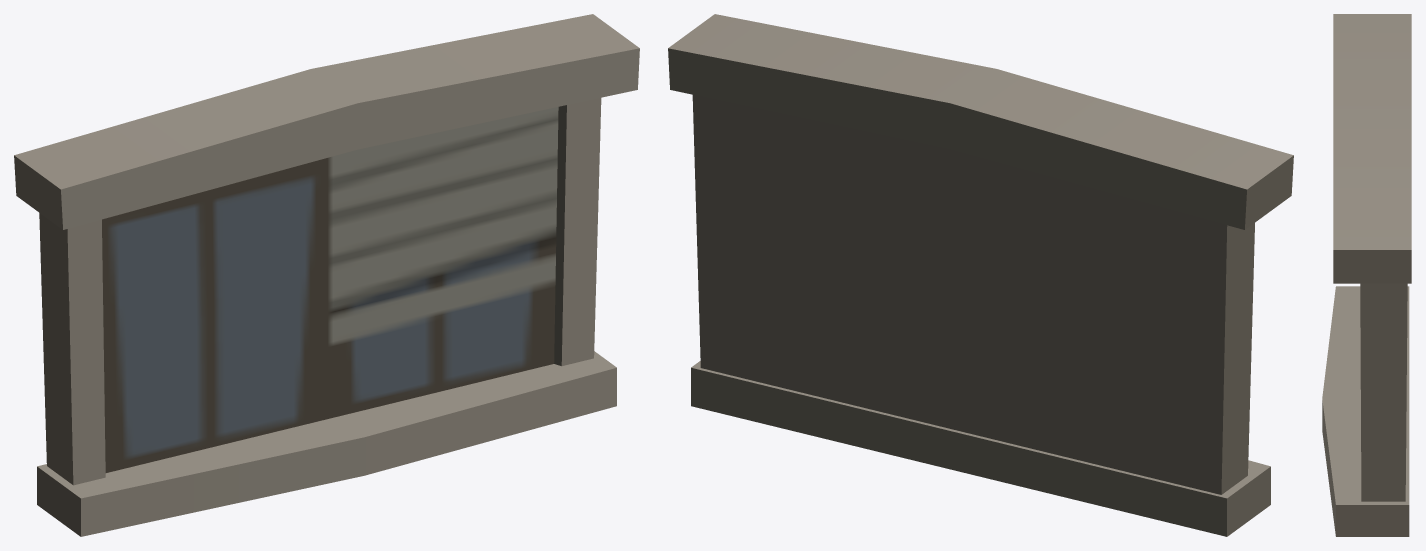
The model's file is Window_A06.fbx.
The picture shows the model from 3 angles, left to right: view 1: azimuth 30°, elevation 25°; view 2: azimuth 150°, elevation 25°; view 3: azimuth 270°, elevation 25°; orthographic projection. The views are drawn at different scales.
Parts seen in each view (by area): view 1: Window_A06; view 2: Window_A06; view 3: Window_A06.
Boxes of the visible parts, x1=… form: Window_A06: x1=14, y1=14, x2=639, y2=536; Window_A06: x1=668, y1=14, x2=1293, y2=536; Window_A06: x1=1322, y1=14, x2=1411, y2=536.
Bounding box in the file's own units: 321 × 195 × 51.42.
